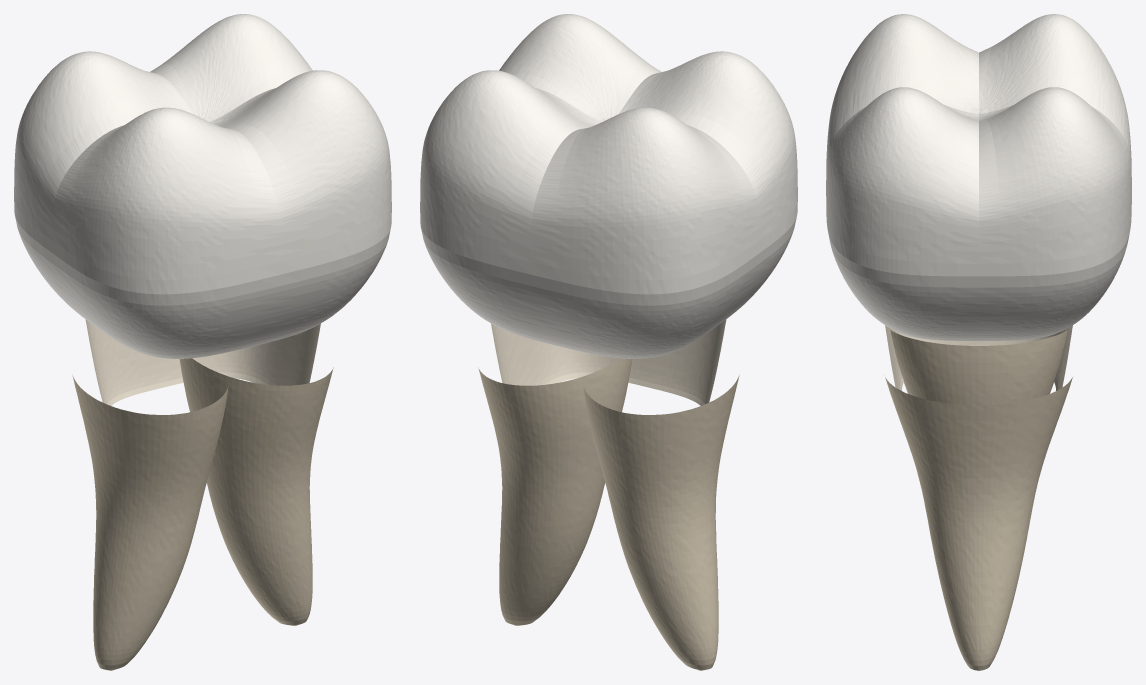
File: dente-molar-draco.glb
3 renders of one model, left to right at view 1: azimuth 30°, elevation 25°; view 2: azimuth 150°, elevation 25°; view 3: azimuth 270°, elevation 25°, orthographic. The views are drawn at different scales.
Visible parts, largest first — view 1: coroa, raiz_mesial, raiz_distal, colo_cervical; view 2: coroa, raiz_mesial, raiz_distal, colo_cervical; view 3: coroa, raiz_distal, raiz_mesial, colo_cervical.
Boxes of the visible parts, x1=… form: coroa: x1=14, y1=14, x2=391, y2=358; raiz_mesial: x1=72, y1=375, x2=228, y2=670; raiz_distal: x1=179, y1=358, x2=333, y2=625; colo_cervical: x1=85, y1=319, x2=320, y2=405; coroa: x1=420, y1=14, x2=797, y2=358; raiz_mesial: x1=583, y1=375, x2=739, y2=670; raiz_distal: x1=478, y1=358, x2=632, y2=625; colo_cervical: x1=491, y1=319, x2=726, y2=405; coroa: x1=826, y1=14, x2=1131, y2=340; raiz_distal: x1=885, y1=377, x2=1072, y2=670; raiz_mesial: x1=890, y1=330, x2=1067, y2=405; colo_cervical: x1=885, y1=325, x2=1072, y2=390.
Size of the model in its own units: 0.5362 by 0.9999 by 0.4843.
